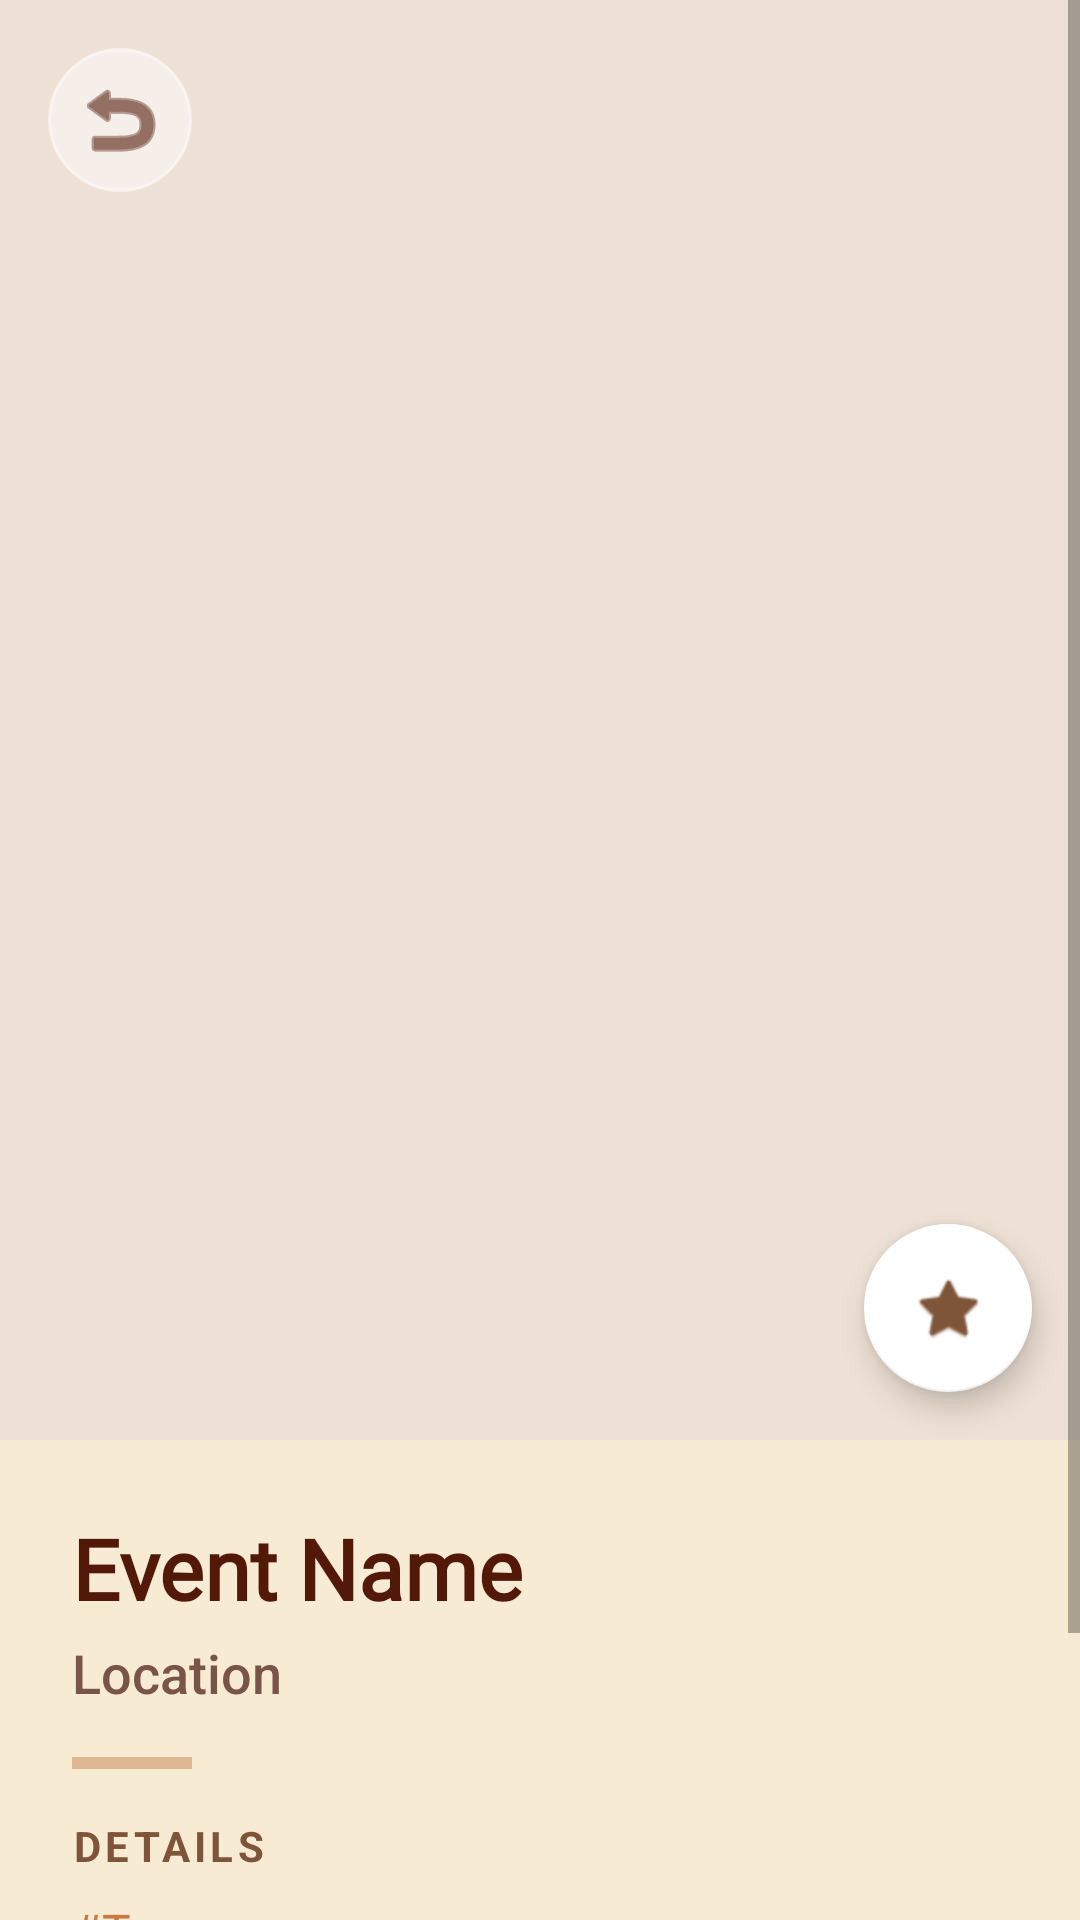

Icons on this 1080×1920 Android screen, each with the point to tap as point (x, y):
Back: point (120, 120)
Favorite: point (948, 1308)
